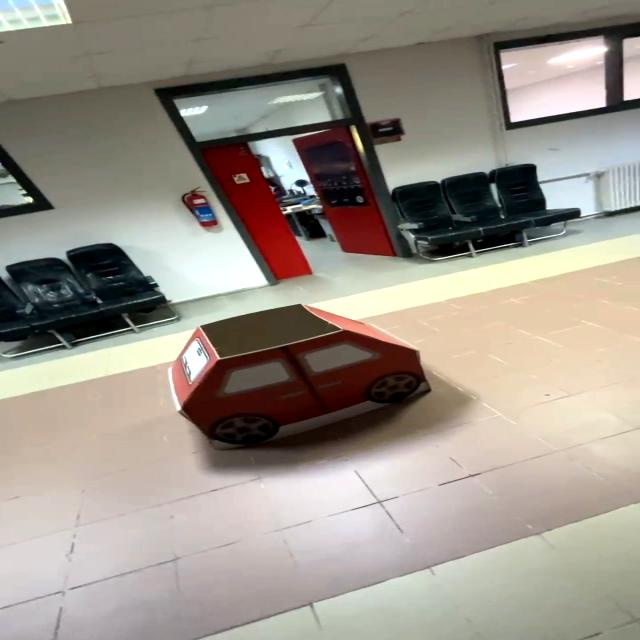red_car: (155, 286, 449, 460)
